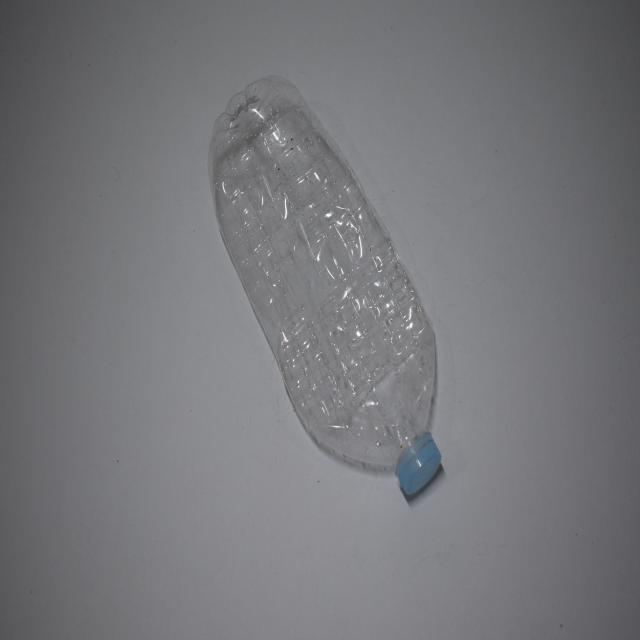empty: (209, 76, 441, 494)
